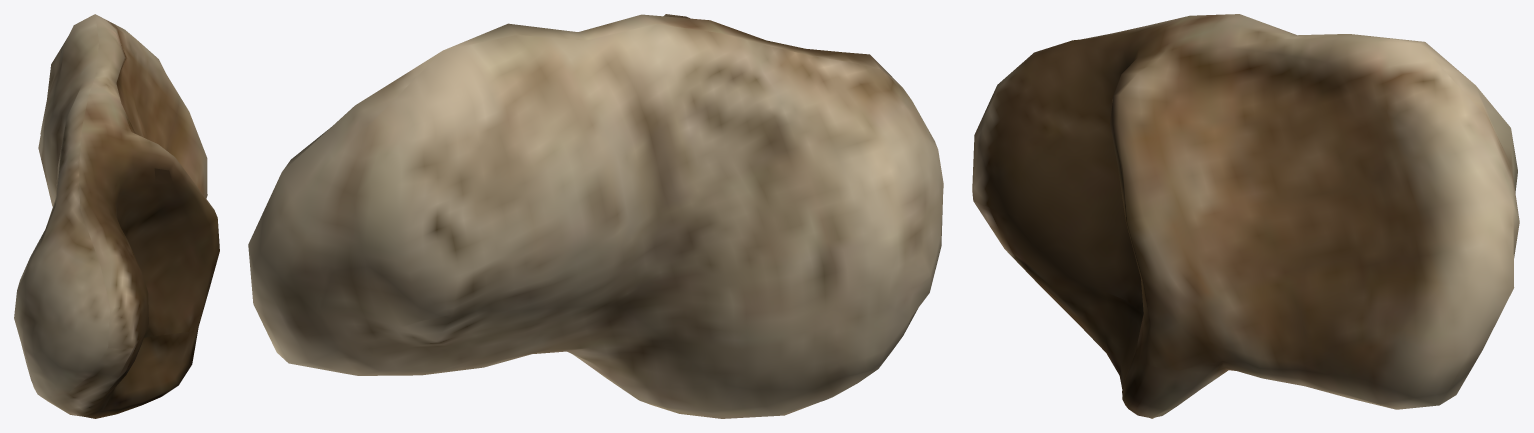
File: Ulnar_Accessory_Carpal.glb
3 renders of one model, left to right at view 1: azimuth 30°, elevation 25°; view 2: azimuth 150°, elevation 25°; view 3: azimuth 270°, elevation 25°, orthographic. The views are drawn at different scales.
Visible parts, largest first — view 1: R_Frt_Ulnar_Accessory_Carpal; view 2: R_Frt_Ulnar_Accessory_Carpal; view 3: R_Frt_Ulnar_Accessory_Carpal.
Part boxes in pixels (x1=…): R_Frt_Ulnar_Accessory_Carpal: x1=14, y1=14, x2=219, y2=418; R_Frt_Ulnar_Accessory_Carpal: x1=248, y1=14, x2=943, y2=418; R_Frt_Ulnar_Accessory_Carpal: x1=972, y1=14, x2=1519, y2=418.
Size of the model in its own units: 0.051 by 0.0471 by 0.0584.
Materials: 1 (1 with a texture image).
